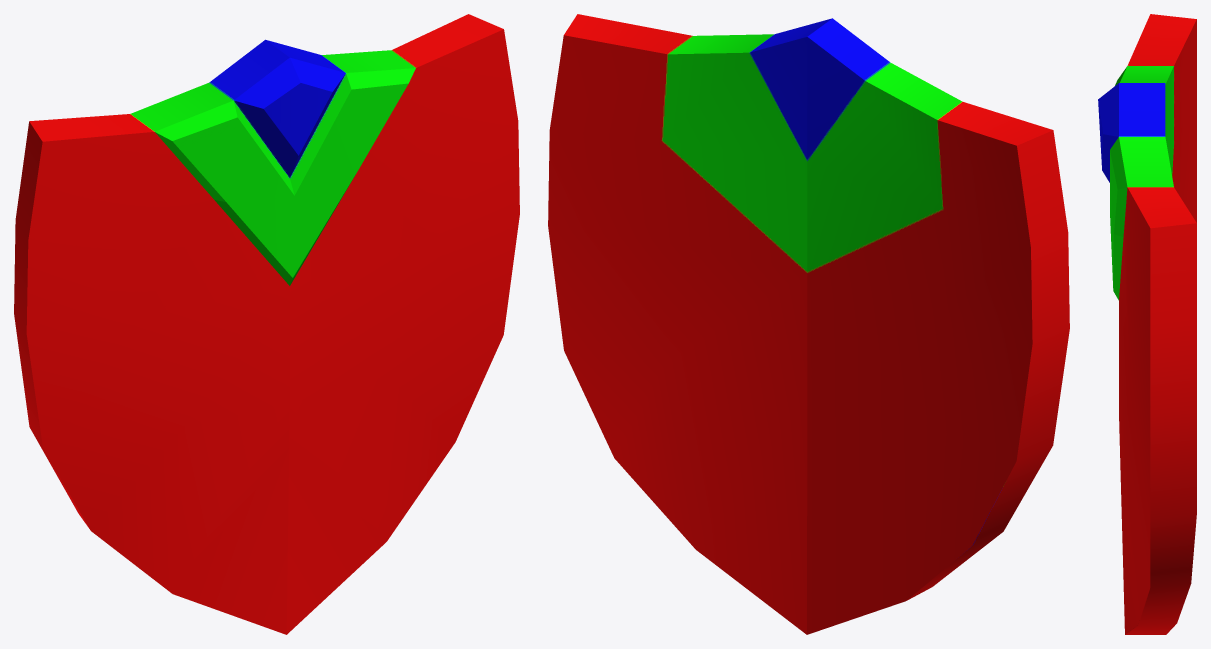
File: LongShield.fbx
3 renders of one model, left to right at view 1: azimuth 30°, elevation 25°; view 2: azimuth 150°, elevation 25°; view 3: azimuth 270°, elevation 25°, orthographic. The views are drawn at different scales.
Parts seen in each view (by area): view 1: Shield08; view 2: Shield08; view 3: Shield08.
Part boxes in pixels (x1,y1,x2,y2): Shield08: (14,14,519,634); Shield08: (548,14,1069,634); Shield08: (1098,14,1196,634).
Size of the model in its own units: 57.56 by 64.64 by 10.49.
1 material, 1 textured.
